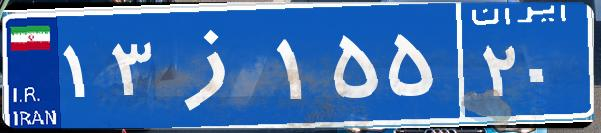0: (525, 38, 570, 115)
1: (273, 28, 330, 110), (57, 26, 110, 107)
2: (475, 38, 525, 113)
3: (110, 28, 158, 105)
5: (385, 28, 445, 110), (330, 28, 385, 110)
ز: (158, 15, 273, 115)
